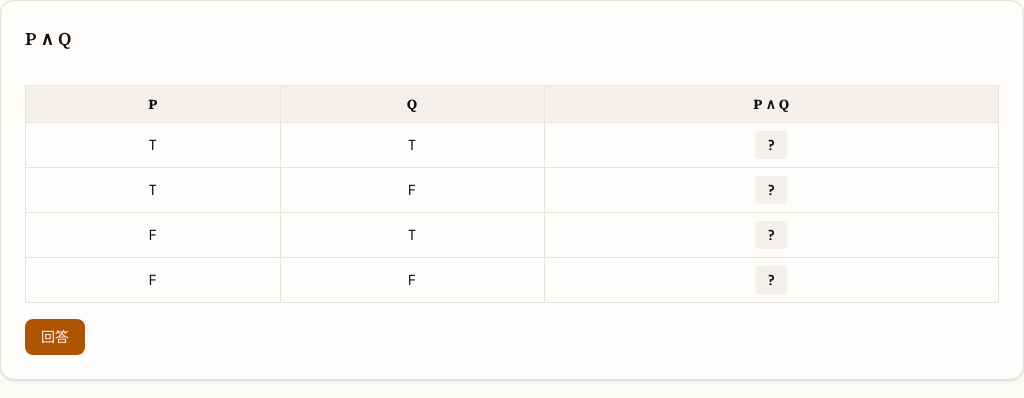
TruthTableQuiz › cycles toggle button through ? → T → F → ?
Click the 1st button "?": (771, 145) [755,131,787,159]
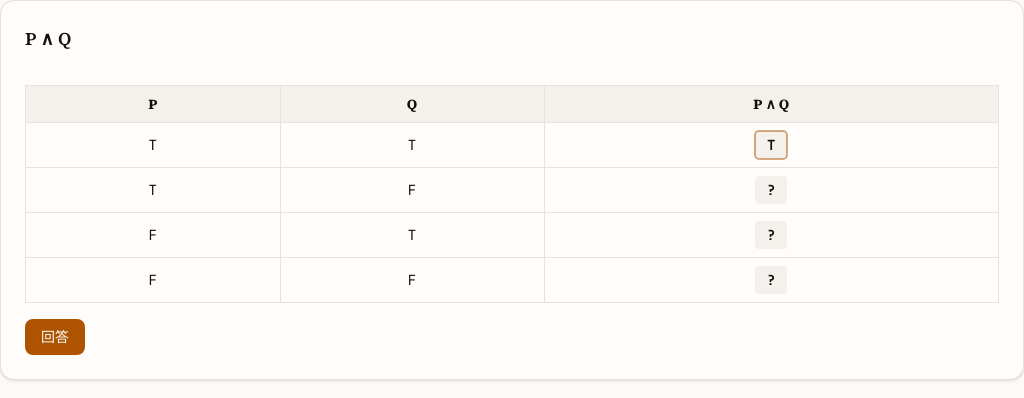
Expected: the button named "?" reads "T"
Click the button named "?": (771, 145) [755,131,787,159]
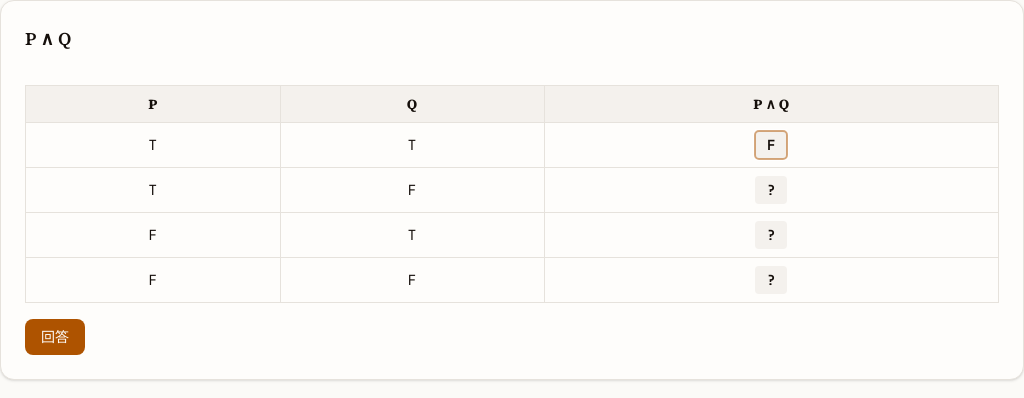
Expected: the button named "?" reads "F"
Click the button named "?": (771, 145) [755,131,787,159]
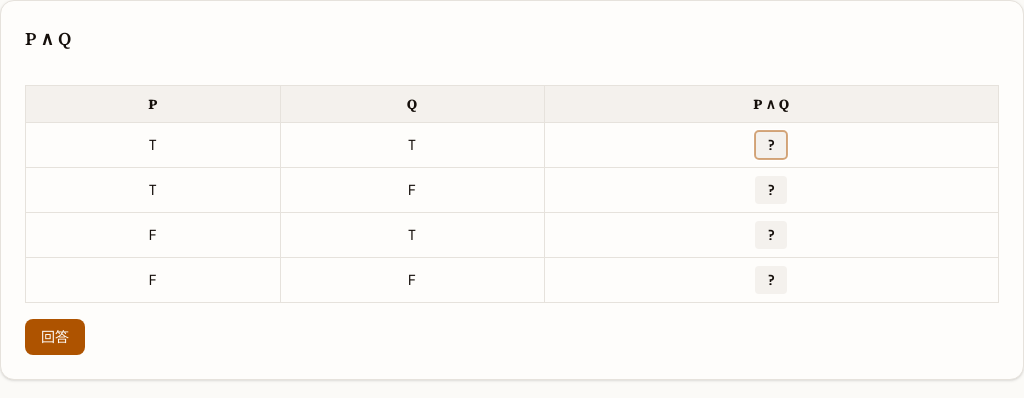
Expected: the 1st button "?" is shown, [755,131,787,159]
